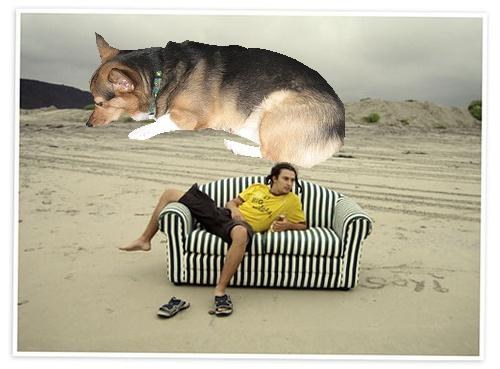tampered: (87, 33, 345, 168)
